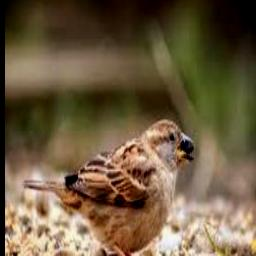Sparrow: (23, 118, 194, 256)
